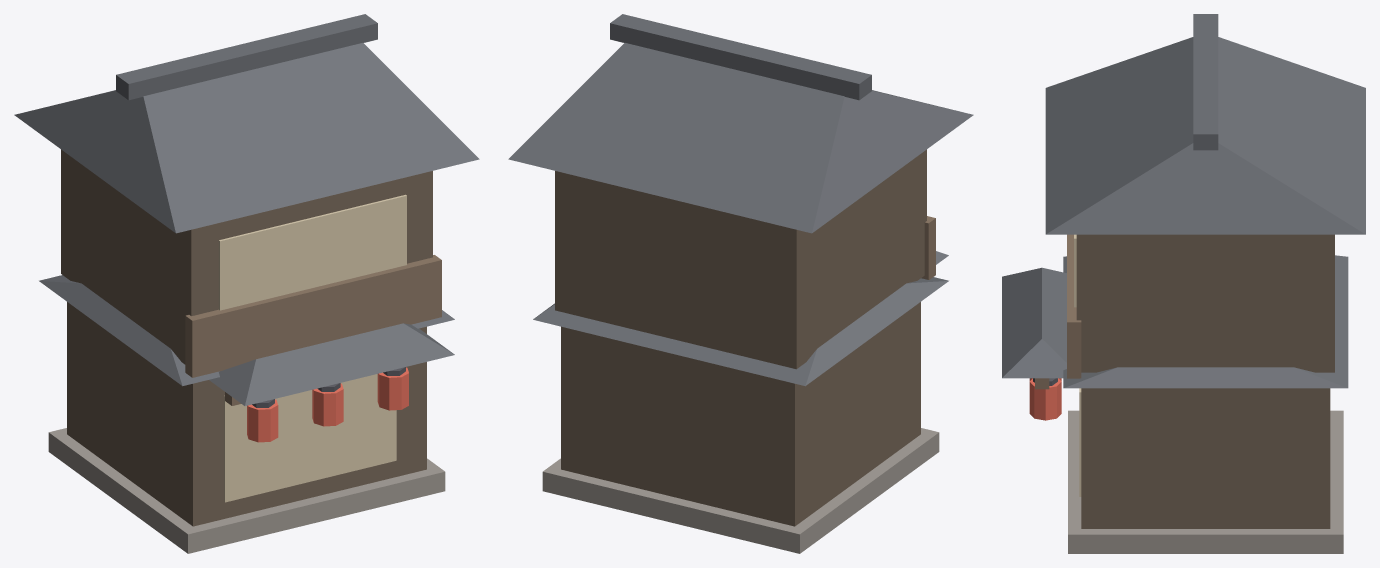
The model's file is civic_ochaya.glb.
The picture shows the model from 3 angles, left to right: view 1: azimuth 30°, elevation 25°; view 2: azimuth 150°, elevation 25°; view 3: azimuth 270°, elevation 25°; orthographic projection.
Visible parts, largest first — view 1: Main_Roof, GF_Body, 2F_Body, 2F_Balcony, 2F_Sudare_F, GF_Sudare, Stone_Foundation, Porch_Canopy, Roof_Ridge, Mid_Eave, Lantern_Body_1, Lantern_Body_0 (+1 smaller); view 2: GF_Body, 2F_Body, Main_Roof, Stone_Foundation, Mid_Eave, Roof_Ridge, 2F_Balcony; view 3: Main_Roof, GF_Body, 2F_Body, Stone_Foundation, Mid_Eave, Porch_Canopy, Roof_Ridge, 2F_Balcony, Lantern_Body_2.
Boxes of the visible parts, x1,y1,x2,y2 form: Main_Roof: [14, 43, 479, 233]; GF_Body: [67, 302, 426, 526]; 2F_Body: [61, 149, 432, 364]; 2F_Balcony: [185, 255, 441, 377]; 2F_Sudare_F: [218, 194, 406, 310]; GF_Sudare: [224, 374, 396, 502]; Stone_Foundation: [48, 428, 445, 553]; Porch_Canopy: [209, 323, 454, 405]; Roof_Ridge: [116, 14, 377, 100]; Mid_Eave: [39, 275, 454, 386]; Lantern_Body_1: [312, 383, 343, 426]; Lantern_Body_0: [247, 399, 278, 442]; GF_Body: [561, 302, 920, 526]; 2F_Body: [555, 149, 926, 369]; Main_Roof: [508, 43, 973, 233]; Stone_Foundation: [542, 428, 939, 553]; Mid_Eave: [533, 277, 948, 386]; Roof_Ridge: [610, 14, 871, 100]; 2F_Balcony: [921, 216, 935, 279]; Main_Roof: [1045, 37, 1365, 234]; GF_Body: [1081, 388, 1330, 528]; 2F_Body: [1076, 234, 1334, 372]; Stone_Foundation: [1068, 410, 1343, 553]; Mid_Eave: [1063, 255, 1348, 388]; Porch_Canopy: [1002, 267, 1066, 378]; Roof_Ridge: [1193, 14, 1218, 150]; 2F_Balcony: [1067, 234, 1081, 378]; Lantern_Body_2: [1029, 378, 1061, 420].
Bounding box in the file's own units: 1.95 × 2.59 × 2.04.
